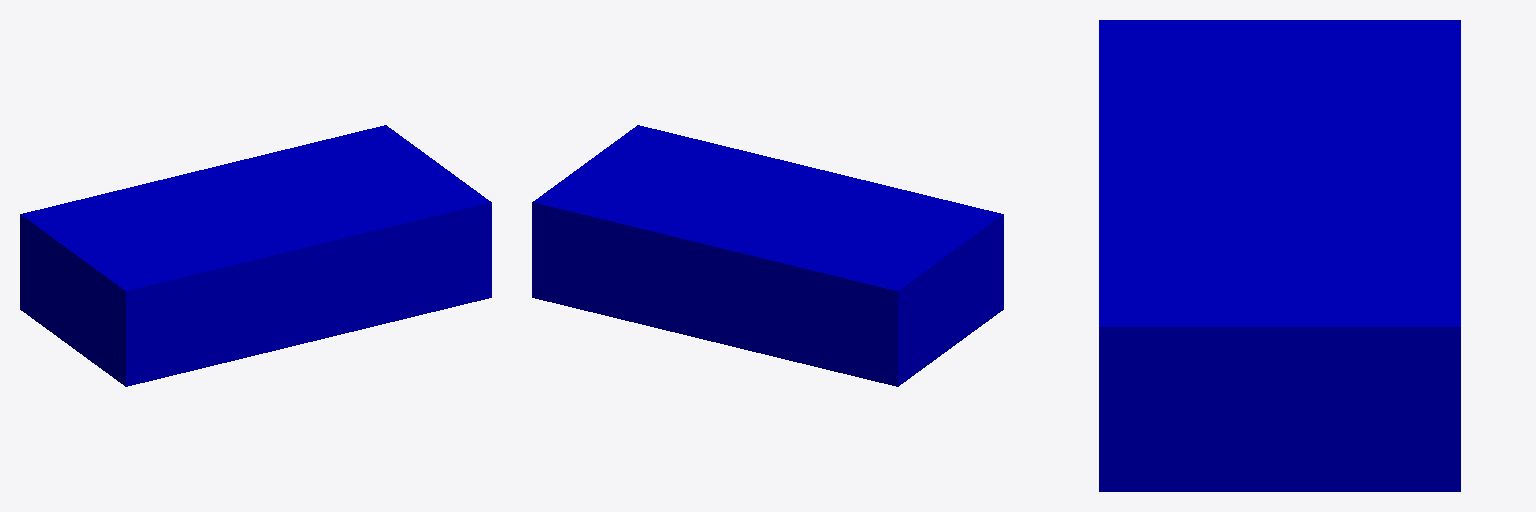
The robot description file, URDF, robot "car":
<?xml version="1.0"?>
<robot name="car">
    <link name="base_link">
        <visual>
            <geometry>
                <box size="4.0 2.0 1.0"/>
            </geometry>
            <material name="blue">
                <color rgba="0 0 .8 1"/>
            </material>
        </visual>
        <inertial>
            <mass value="10.0"/>
        </inertial>
    </link>        
</robot>

--- Render facts (derived) ---
3 views of the same robot in one strip: view 1: azimuth 30°, elevation 25°; view 2: azimuth 150°, elevation 25°; view 3: azimuth 270°, elevation 25° (orthographic).
Robot: car — 1 links, 0 joints (none); root link base_link; default pose: all joints at 0.
Visible links, largest first — view 1: base_link; view 2: base_link; view 3: base_link.
Link boxes in pixels (left/top/right/bottom): base_link: left=20, top=125, right=491, bottom=386; base_link: left=532, top=125, right=1003, bottom=386; base_link: left=1099, top=20, right=1460, bottom=491.
Size in the robot's own frame: 4 by 2 by 1 metres.
Geometry: primitives only (box / cylinder / sphere), no mesh files.